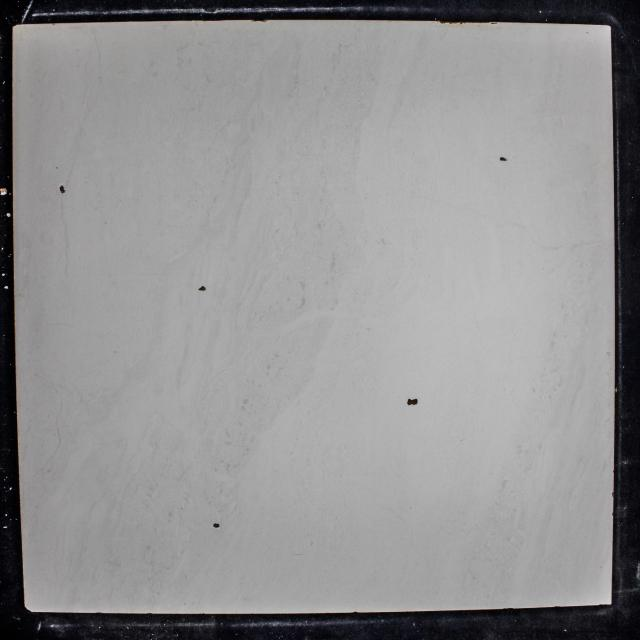edge-chipping: (438, 20, 464, 25), (250, 18, 268, 23), (23, 606, 32, 613)
hole: (406, 397, 418, 406), (59, 184, 66, 194), (499, 156, 508, 162), (198, 285, 206, 291), (213, 523, 220, 528)
